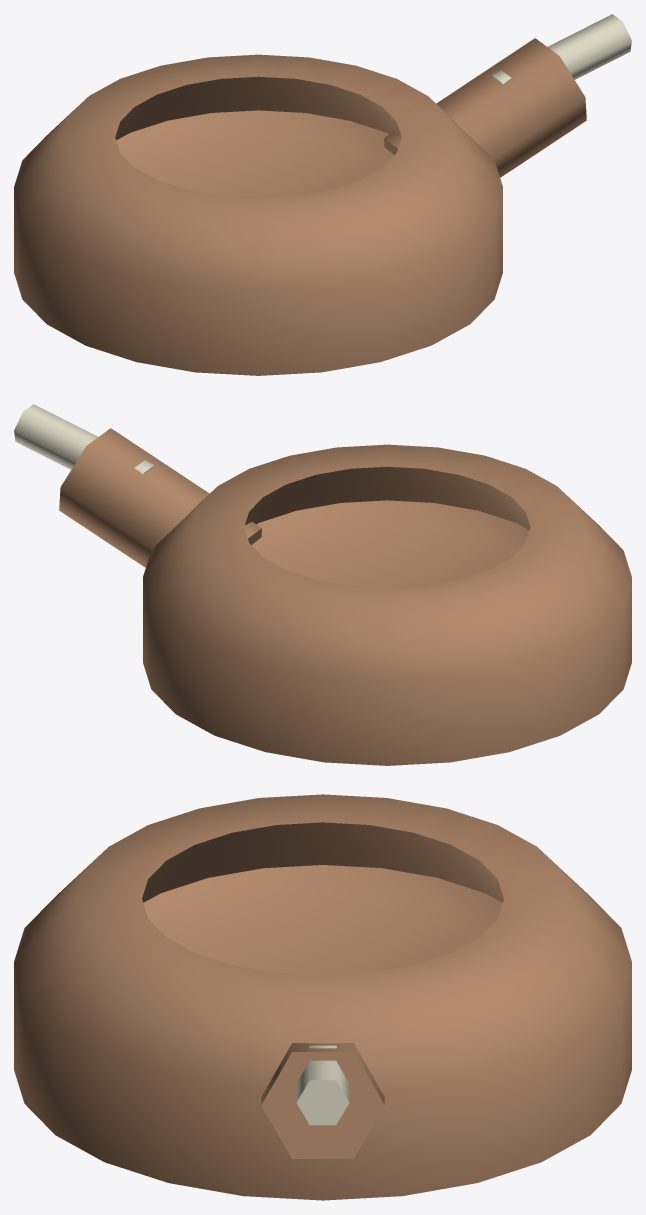
Rendered from primitive-crafting-workshop-clay-oil-lamp-1a0cf9d4__21586.glb.
The picture shows the model from 3 angles, top to bottom: view 1: azimuth 30°, elevation 25°; view 2: azimuth 150°, elevation 25°; view 3: azimuth 270°, elevation 25°; orthographic projection. The views are drawn at different scales.
Parts seen in each view (by area): view 1: clay-oil-lamp; view 2: clay-oil-lamp; view 3: clay-oil-lamp.
Part boxes in pixels (x1,y1,x2,y2): clay-oil-lamp: (14, 14, 631, 375); clay-oil-lamp: (14, 404, 631, 765); clay-oil-lamp: (14, 794, 631, 1200).
Size of the model in its own units: 0.1913 by 0.055 by 0.14.
